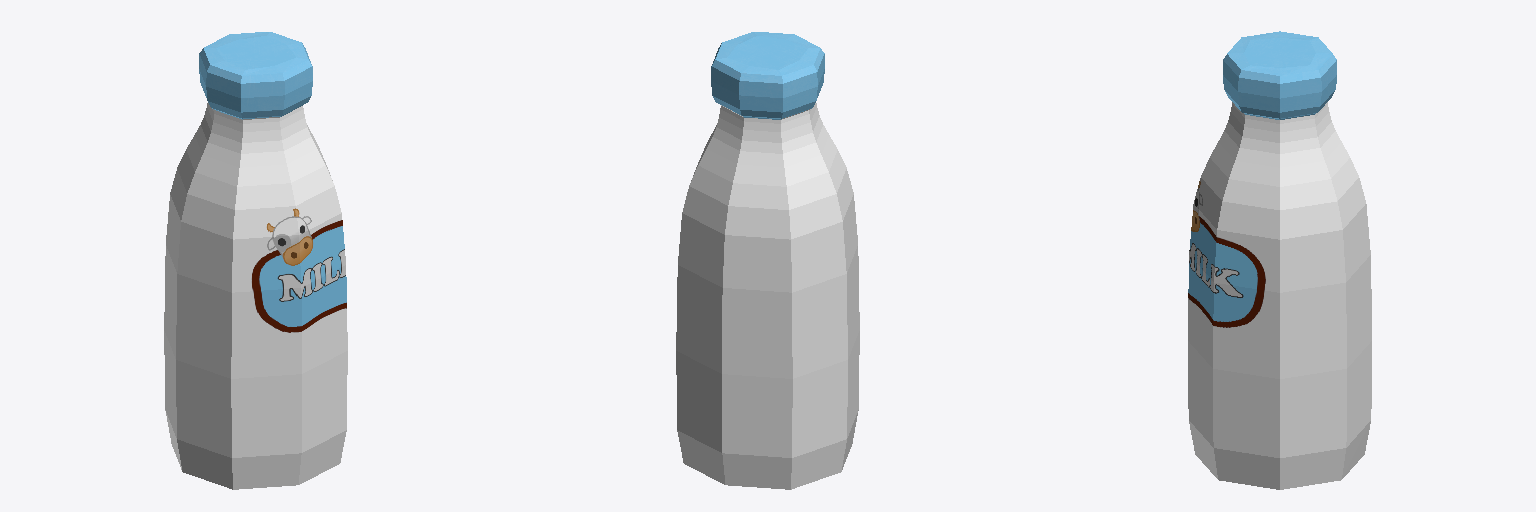
3 renders of one model, left to right at view 1: azimuth 30°, elevation 25°; view 2: azimuth 150°, elevation 25°; view 3: azimuth 270°, elevation 25°, orthographic.
Visible parts, largest first — view 1: bottle_Cube.001; view 2: bottle_Cube.001; view 3: bottle_Cube.001.
Part boxes in pixels (left/top/right/bottom): bottle_Cube.001: left=164, top=32, right=347, bottom=489; bottle_Cube.001: left=676, top=32, right=859, bottom=489; bottle_Cube.001: left=1188, top=31, right=1371, bottom=489.
Size of the model in its own units: 0.3149 by 0.7636 by 0.3149.
Materials: 1 (1 with a texture image).